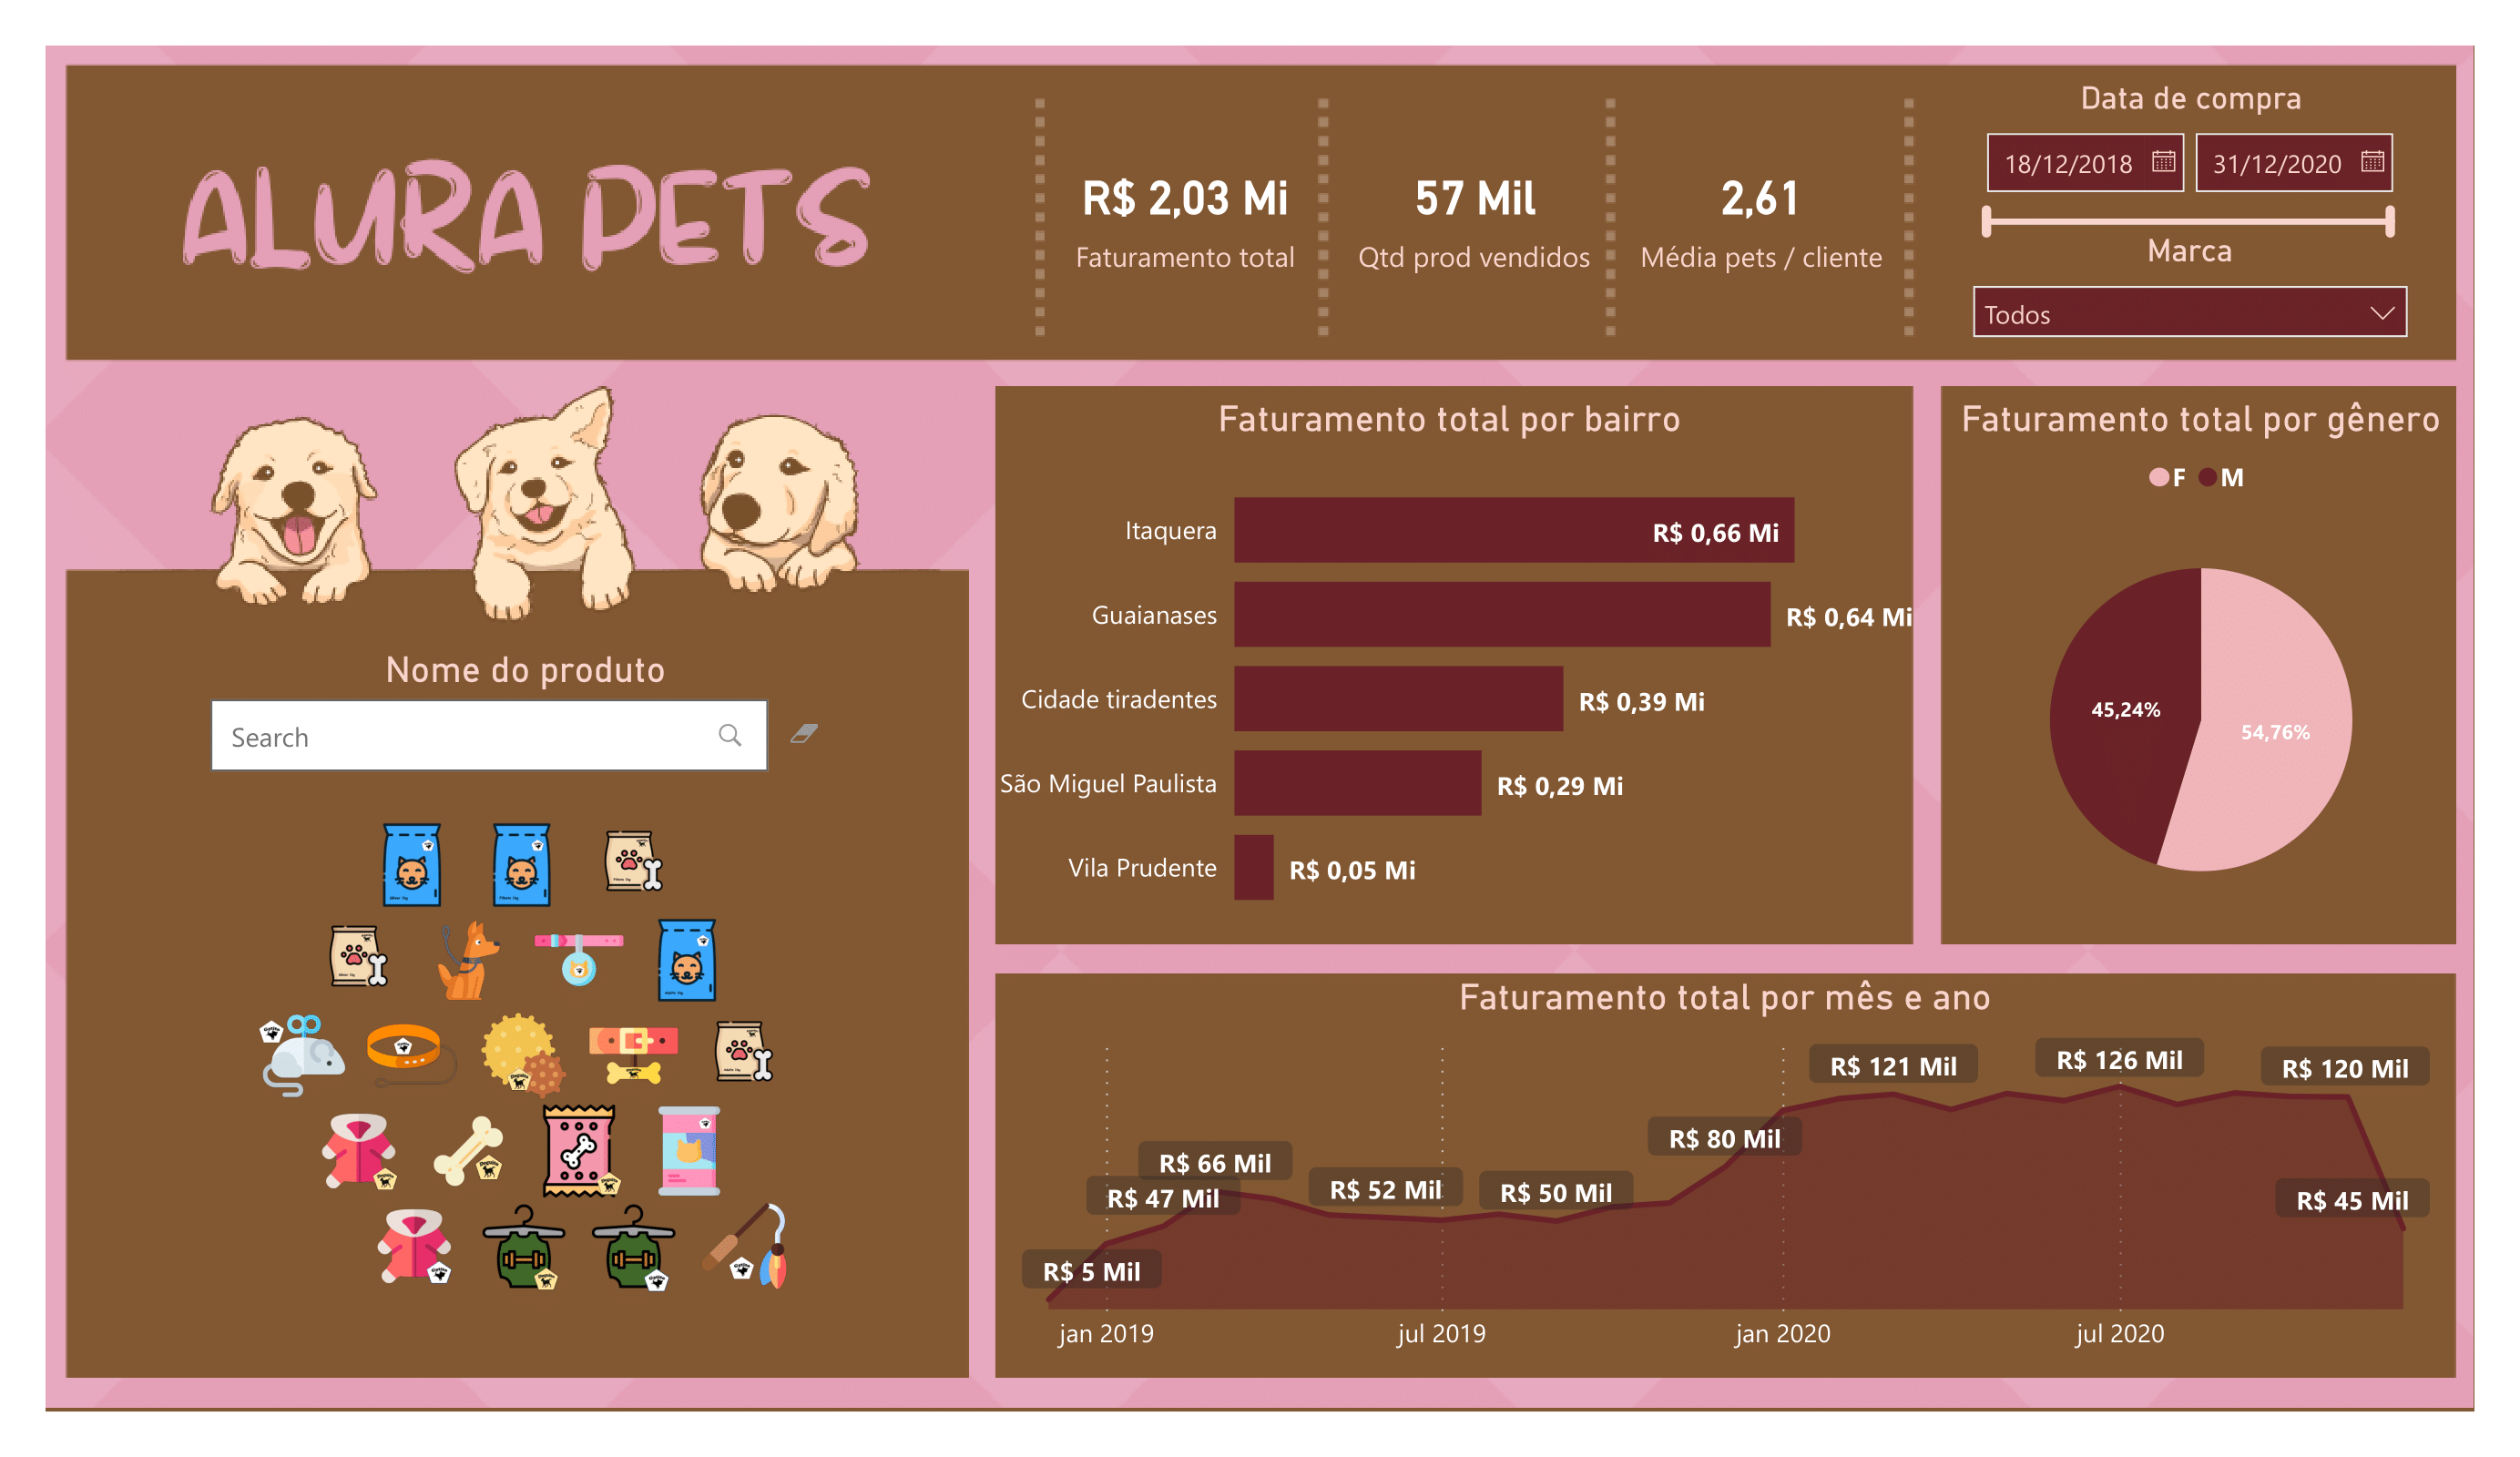

This screenshot's page, from the dashboard's own definition file:
{"tool":"powerbi","page":{"name":"Página 1","canvas":[1280,720],"ordinal":0},"visuals":[{"type":"card","fields":{"Values":["Vendas.Faturamento total"]},"box":[530.3,27.3,140.8,123.6],"z":0},{"type":"card","fields":{"Values":["Avg(Clientes.Pets)"]},"box":[835,27.3,139.4,123.6],"z":1000},{"type":"card","fields":{"Values":["Sum(Vendas.Quantidade)"]},"box":[671.1,27.3,163.8,123.6],"z":2000},{"type":"pieChart","title":"Faturamento total por gênero","fields":{"Category":["Clientes.Gênero"],"Y":["Vendas.Faturamento total"]},"box":[991.6,185.4,288.9,288.9],"z":3000},{"type":"clusteredBarChart","title":"Faturamento total por bairro","fields":{"Category":["Clientes.Bairro"],"Y":["Vendas.Faturamento total"]},"box":[488.6,185.4,503,288.9],"z":4000},{"type":"areaChart","title":"Faturamento total por mês e ano","fields":{"Category":["Vendas.Data de compra.Variation.Hierarquia de datas.Ano","Vendas.Data de compra.Variation.Hierarquia de datas.Trimestre","Vendas.Data de compra.Variation.Hierarquia de datas.Mês","Vendas.Data de compra.Variation.Hierarquia de datas.Dia"],"Y":["Vendas.Faturamento total"]},"box":[498.7,490.1,773.2,208.4],"z":5000},{"type":"ImageGrid_FC5183B9_926C_45E0_B5F7_0CE9EAF1DA9B","fields":{"ImageURLHQ":["Produtos.Url img"]},"box":[15.8,344.9,472.8,375.1],"z":6000},{"type":"textFilter25A4896A83E0487089E2B90C9AE57C8A","title":"Nome do produto","fields":{"field":["Produtos.Nome produto"]},"box":[81.9,317.6,342,86.2],"z":7000},{"type":"slicer","title":"Marca","fields":{"Values":["Produtos.Marca"]},"box":[1005.3,97.7,248.6,58.9],"z":8000},{"type":"slicer","title":"Data de compra","fields":{"Values":["Vendas.Data de compra"]},"box":[1009.6,17.2,241.4,161],"z":9000}]}

Visuals, with their boxes on the page's 1280x720 design canvas (x1, y1, x2, y2). These are canvas units, not pixel positions in the 2520x1457 screenshot, which may show the page scaled, cropped or inside an application window:
card - Vendas.Faturamento total: crop(530, 27, 671, 151)
card - Avg(Clientes.Pets): crop(835, 27, 974, 151)
card - Sum(Vendas.Quantidade): crop(671, 27, 835, 151)
"Faturamento total por gênero" pieChart: crop(992, 185, 1280, 474)
"Faturamento total por bairro" clusteredBarChart: crop(489, 185, 992, 474)
"Faturamento total por mês e ano" areaChart: crop(499, 490, 1272, 698)
ImageGrid_FC5183B9_926C_45E0_B5F7_0CE9EAF1DA9B - Produtos.Url img: crop(16, 345, 489, 720)
"Nome do produto" textFilter25A4896A83E0487089E2B90C9AE57C8A: crop(82, 318, 424, 404)
"Marca" slicer: crop(1005, 98, 1254, 157)
"Data de compra" slicer: crop(1010, 17, 1251, 178)
